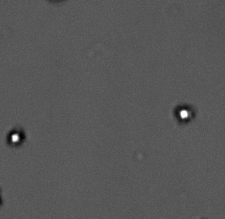Living Cell: (174, 104, 195, 123), (7, 128, 24, 146)
